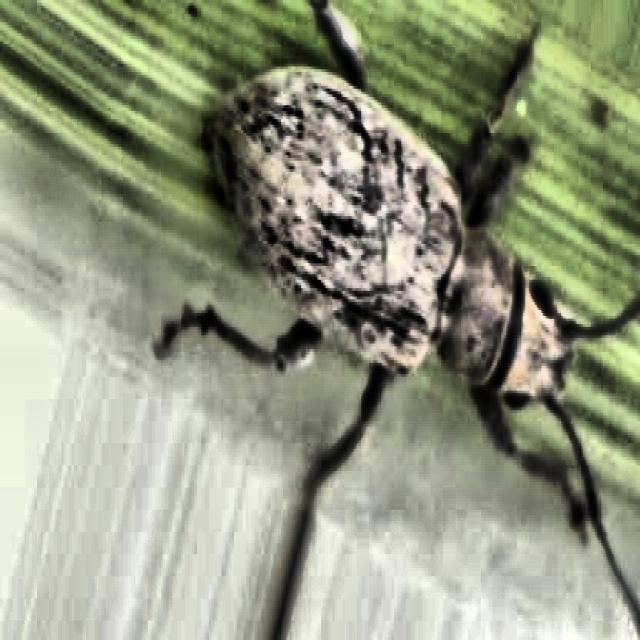Stink bug: (147, 0, 640, 539)
